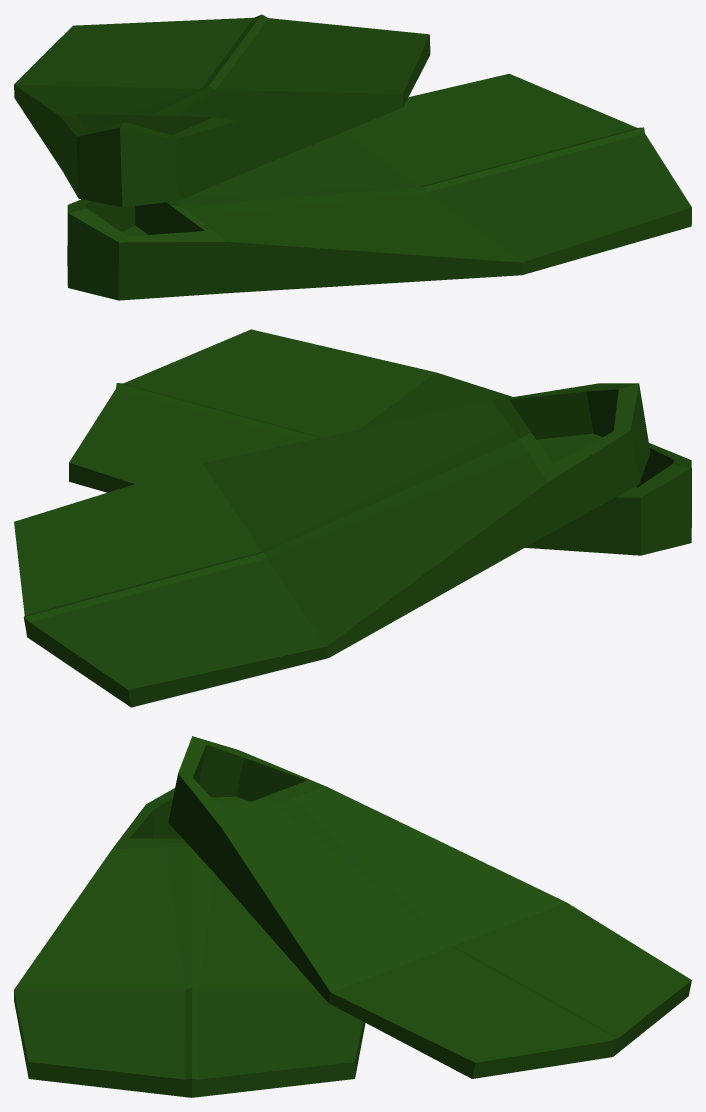
The model's file is fins.fbx.
3 views of the same model, one above another, from view 1: azimuth 30°, elevation 25°; view 2: azimuth 150°, elevation 25°; view 3: azimuth 270°, elevation 25° (orthographic). The views are drawn at different scales.
Parts seen in each view (by area): view 1: flosse.001; view 2: flosse.001; view 3: flosse.001.
Part boxes in pixels (x1,y1,x2,y2): flosse.001: [14, 14, 691, 300]; flosse.001: [14, 329, 691, 707]; flosse.001: [14, 736, 691, 1097].
Bounding box in the file's own units: 109 × 32.07 × 124.
